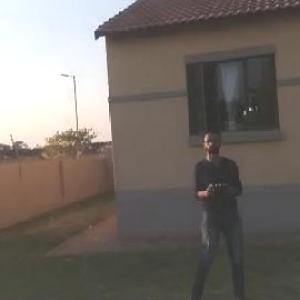follow: (172, 120, 249, 299)
